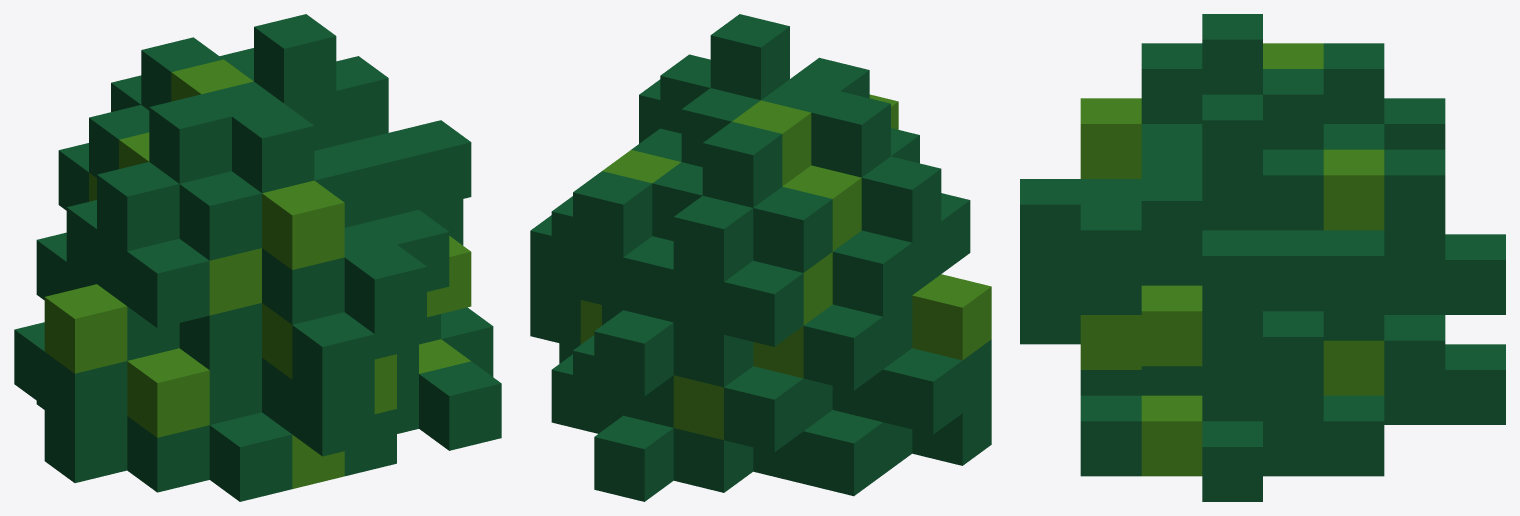
File: bush_3.obj
The picture shows the model from 3 angles, left to right: view 1: azimuth 30°, elevation 25°; view 2: azimuth 150°, elevation 25°; view 3: azimuth 270°, elevation 25°; orthographic projection. The views are drawn at different scales.
Size of the model in its own units: 0.8 by 0.7 by 0.8.
Materials: 1 (1 with a texture image).
